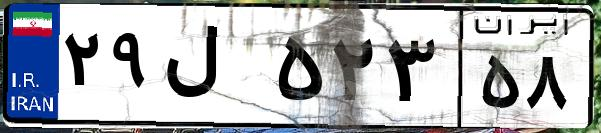2: (330, 28, 385, 110), (57, 26, 110, 100)
3: (385, 28, 445, 110)
5: (270, 28, 330, 110), (475, 38, 525, 113)
8: (525, 38, 570, 115)
9: (110, 28, 158, 98)
ل: (158, 20, 270, 120)
